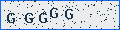G: (50, 8, 59, 18), (38, 13, 47, 23), (65, 9, 73, 19), (25, 13, 33, 23), (7, 13, 15, 23)
